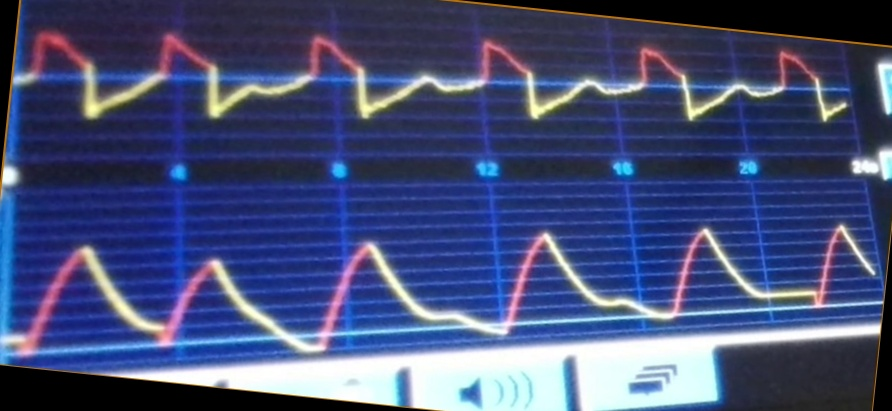Ineffective_effort Flow: (16, 22, 848, 146)
Ineffective_effort Volume: (16, 217, 871, 354)
